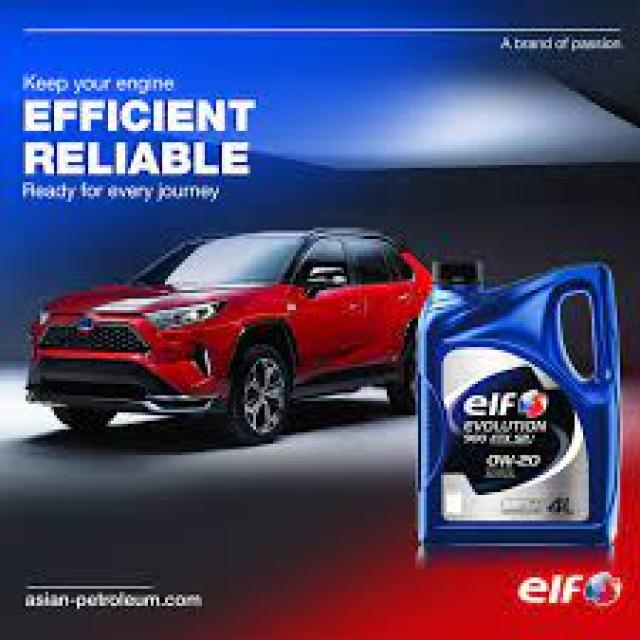motor_oil: (416, 251, 623, 554)
